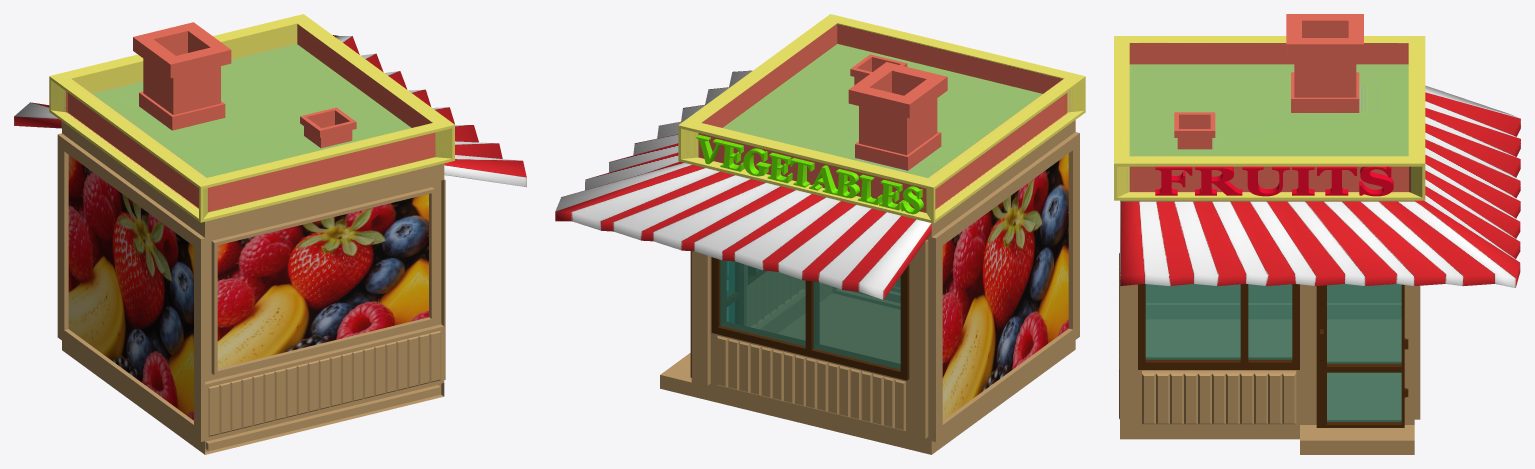
File: sf_kiosk_b.glb
3 views of the same model, side by side, from view 1: azimuth 30°, elevation 25°; view 2: azimuth 150°, elevation 25°; view 3: azimuth 270°, elevation 25° (orthographic). The views are drawn at different scales.
Size of the model in its own units: 2.4 by 2.17 by 2.44.
8 materials, 3 textured.
